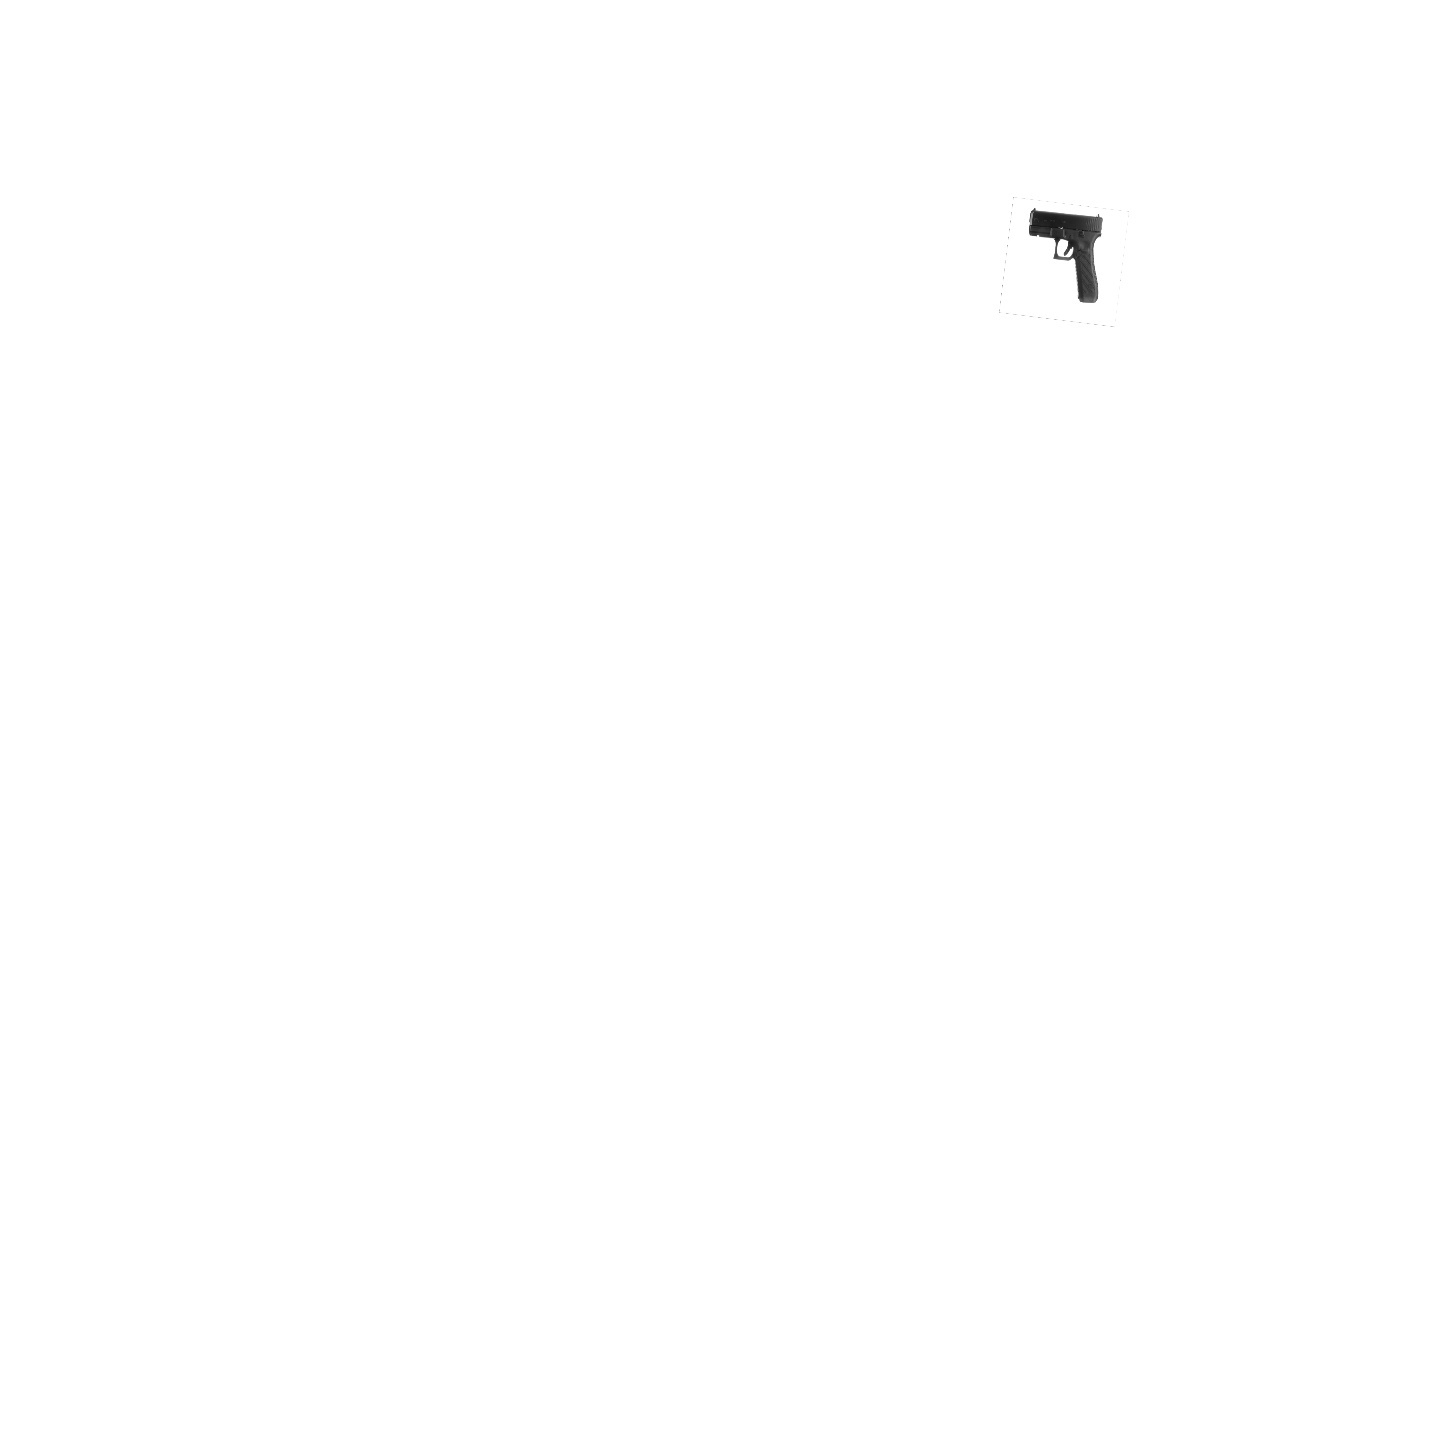gun: (1022, 204, 1110, 307)
